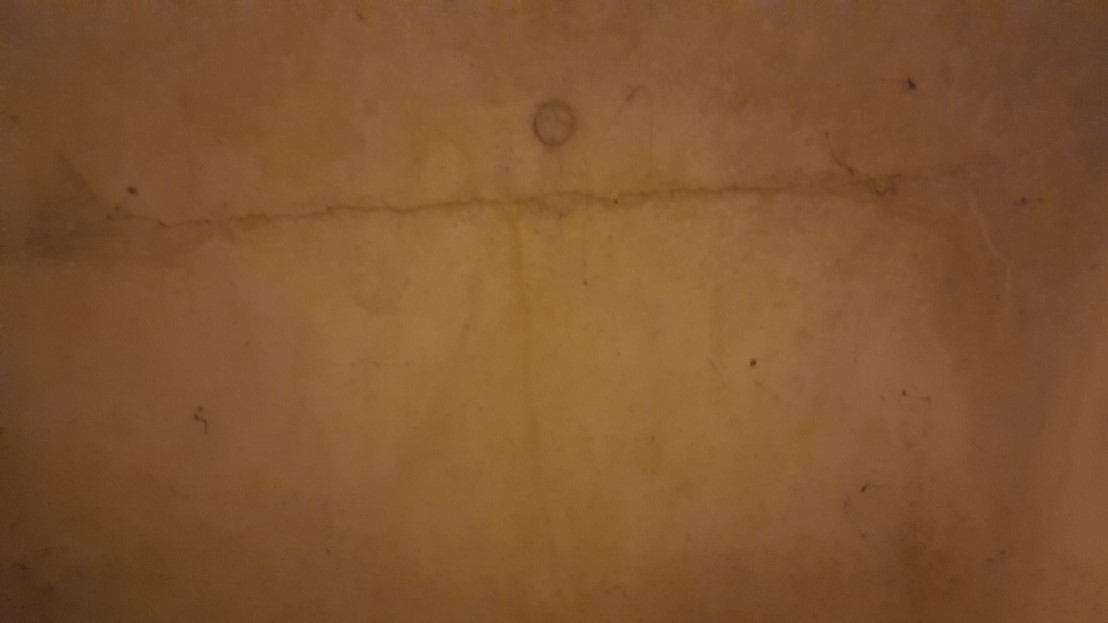Crack: (92, 154, 946, 246)
